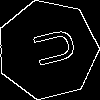U: (23, 25, 77, 71)
